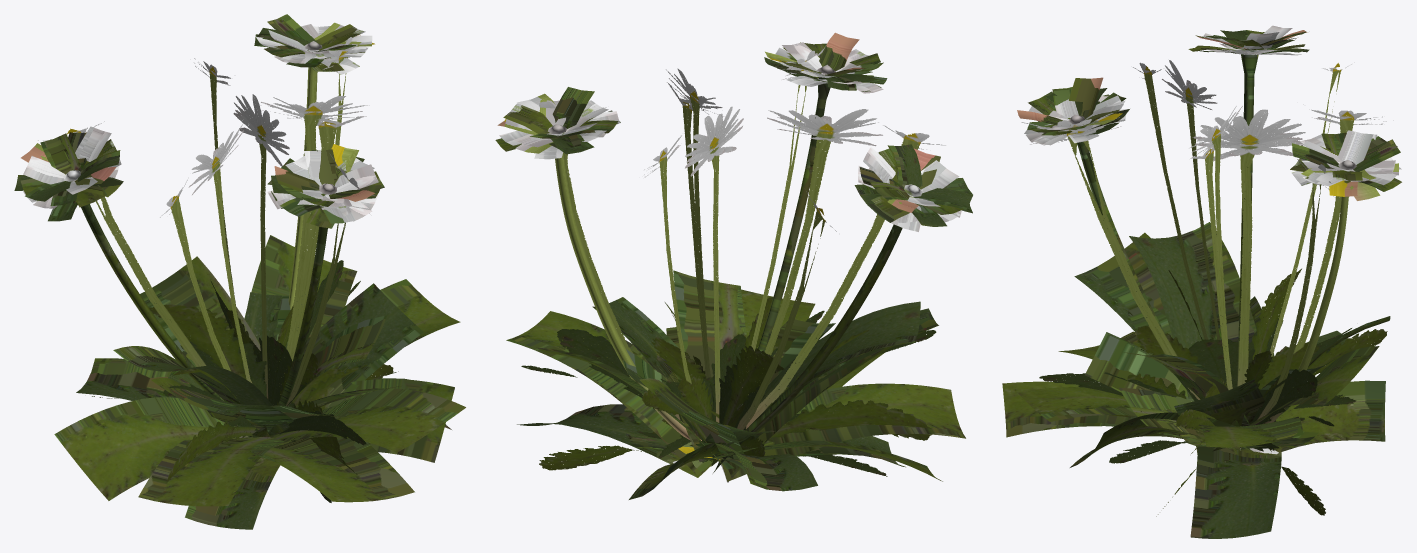
File: PW_Daisy_1.fbx
The picture shows the model from 3 angles, left to right: view 1: azimuth 30°, elevation 25°; view 2: azimuth 150°, elevation 25°; view 3: azimuth 270°, elevation 25°; orthographic projection. The views are drawn at different scales.
Parts seen in each view (by area): view 1: LOD0, Billboard; view 2: LOD0, Billboard; view 3: LOD0, Billboard.
Boxes of the visible parts, bbox=[...] form: LOD0: bbox=[14, 14, 465, 529]; Billboard: bbox=[38, 37, 398, 502]; LOD0: bbox=[495, 32, 972, 499]; Billboard: bbox=[509, 46, 945, 476]; LOD0: bbox=[1002, 25, 1401, 538]; Billboard: bbox=[1021, 60, 1393, 516].
Size of what is drawn, in the model's own units: 6.83 by 5.73 by 5.67.
